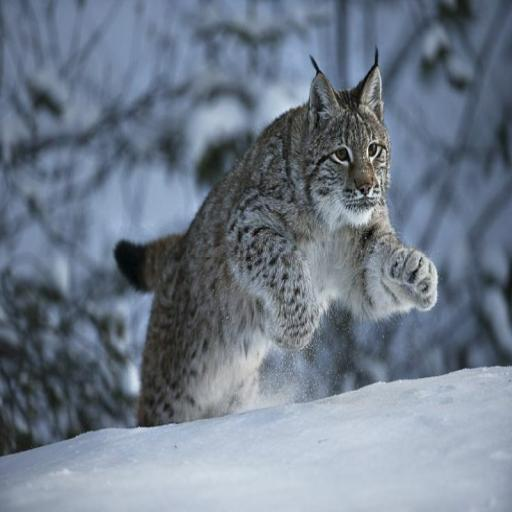lynx: (115, 50, 437, 425)
